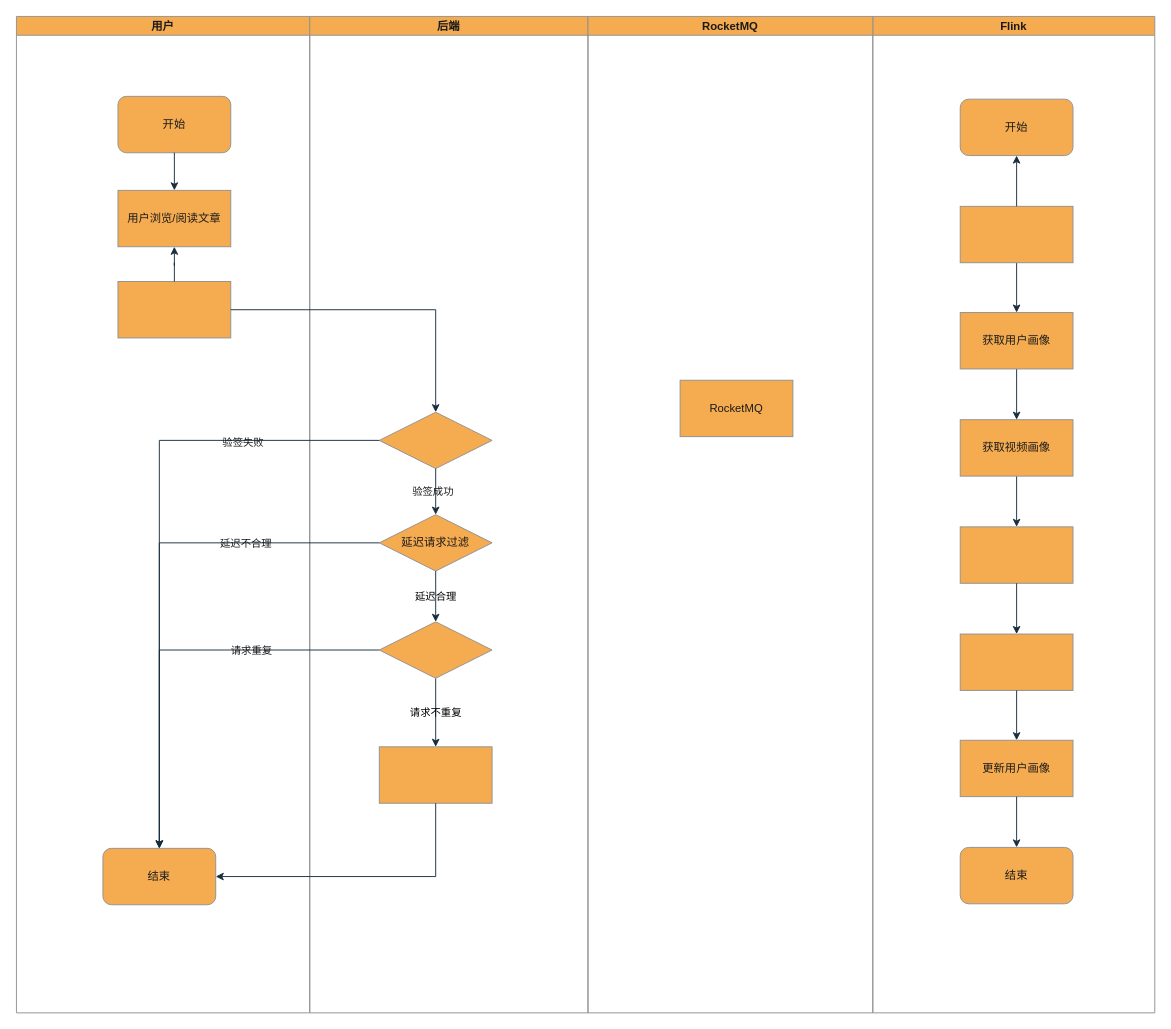
This 1171x1029 diagram has some shape labels left out. Here are the shapes that lost their labels. From the top down, the centre of each, then its label:
At pixel 1016 234: "消费队列".
At pixel 174 309: "埋点上报".
At pixel 435 440: "请求验签".
At pixel 1016 554: "计算点击率".
At pixel 435 649: "重复请求过滤".
At pixel 1016 661: "更新文章画像".
At pixel 435 774: "提交到队列".
